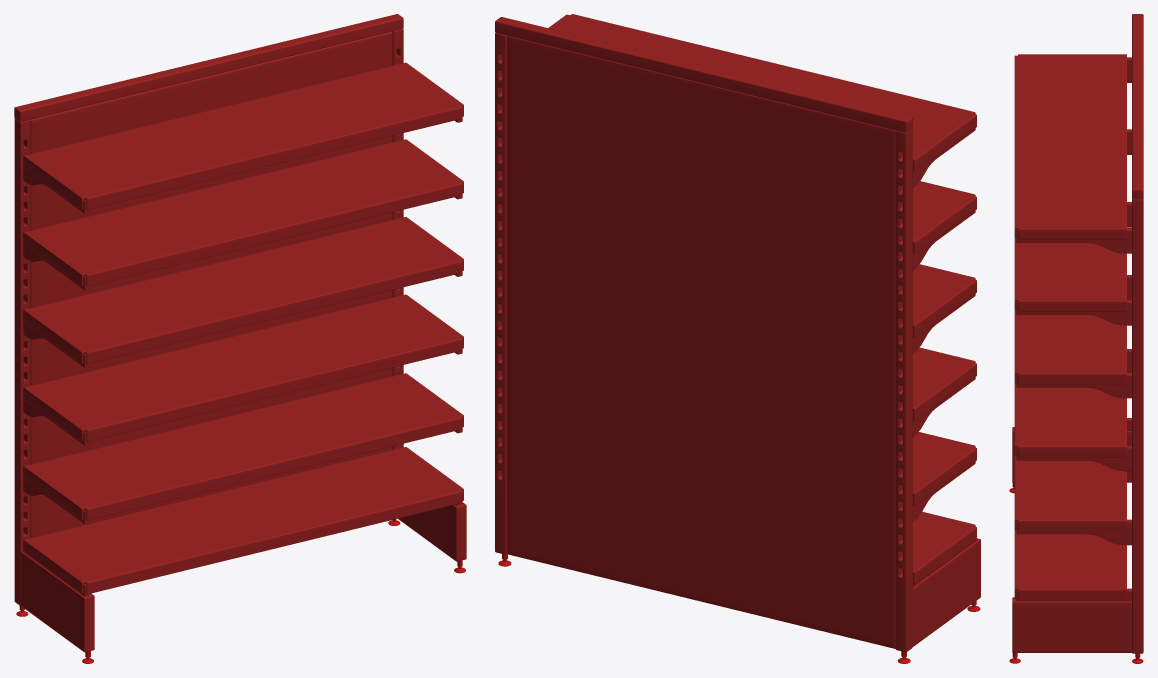
File: Rack.glb
The picture shows the model from 3 angles, left to right: view 1: azimuth 30°, elevation 25°; view 2: azimuth 150°, elevation 25°; view 3: azimuth 270°, elevation 25°; orthographic projection. The views are drawn at different scales.
Visible parts, largest first — view 1: board_mesh, shelf_003_mesh, shelf_005_mesh, shelf_001_mesh, shelf_002_mesh, shelf_006_mesh, shelf_004_mesh, bar_001_mesh, bar_002_mesh, bar_004_mesh, bar_005_mesh, bar_003_mesh; view 2: board_mesh, shelf_006_mesh, bar_001_mesh, bar_002_mesh, bar_003_mesh, bar_004_mesh, shelf_002_mesh, shelf_003_mesh, shelf_004_mesh, shelf_005_mesh, shelf_001_mesh; view 3: shelf_006_mesh, shelf_002_mesh, shelf_003_mesh, shelf_004_mesh, shelf_005_mesh, shelf_001_mesh, bar_005_mesh, bar_003_mesh, bar_002_mesh, arm_006_mesh, arm_008_mesh, arm_004_mesh (+4 smaller).
Boxes of the visible parts, x1,y1,x2,y2 form: board_mesh: (30, 31, 392, 538); shelf_003_mesh: (24, 294, 463, 441); shelf_005_mesh: (24, 139, 463, 286); shelf_001_mesh: (24, 447, 463, 594); shelf_002_mesh: (24, 373, 463, 520); shelf_006_mesh: (24, 62, 463, 209); shelf_004_mesh: (24, 217, 463, 364); bar_001_mesh: (14, 118, 30, 605); bar_002_mesh: (14, 14, 403, 121); bar_004_mesh: (20, 551, 94, 652); bar_005_mesh: (398, 502, 466, 561); bar_003_mesh: (392, 29, 403, 449); board_mesh: (507, 36, 895, 648); shelf_006_mesh: (548, 14, 976, 172); bar_001_mesh: (895, 129, 912, 652); bar_002_mesh: (495, 17, 912, 132); bar_003_mesh: (495, 32, 507, 554); bar_004_mesh: (912, 538, 980, 646); shelf_002_mesh: (912, 432, 976, 505); shelf_003_mesh: (912, 347, 976, 421); shelf_004_mesh: (912, 264, 976, 337); shelf_005_mesh: (912, 181, 976, 254); shelf_001_mesh: (912, 511, 976, 584); shelf_006_mesh: (1014, 54, 1126, 239); shelf_002_mesh: (1014, 456, 1126, 531); shelf_003_mesh: (1014, 383, 1126, 457); shelf_004_mesh: (1014, 310, 1126, 384); shelf_005_mesh: (1014, 238, 1126, 311); shelf_001_mesh: (1014, 530, 1126, 600); bar_005_mesh: (1012, 597, 1131, 652); bar_003_mesh: (1132, 198, 1143, 653); bar_002_mesh: (1132, 14, 1143, 199); arm_006_mesh: (1016, 445, 1131, 471); arm_008_mesh: (1016, 373, 1131, 398); arm_004_mesh: (1016, 519, 1131, 545).
Bounding box in the file's own units: 161 × 203 × 51.96.
